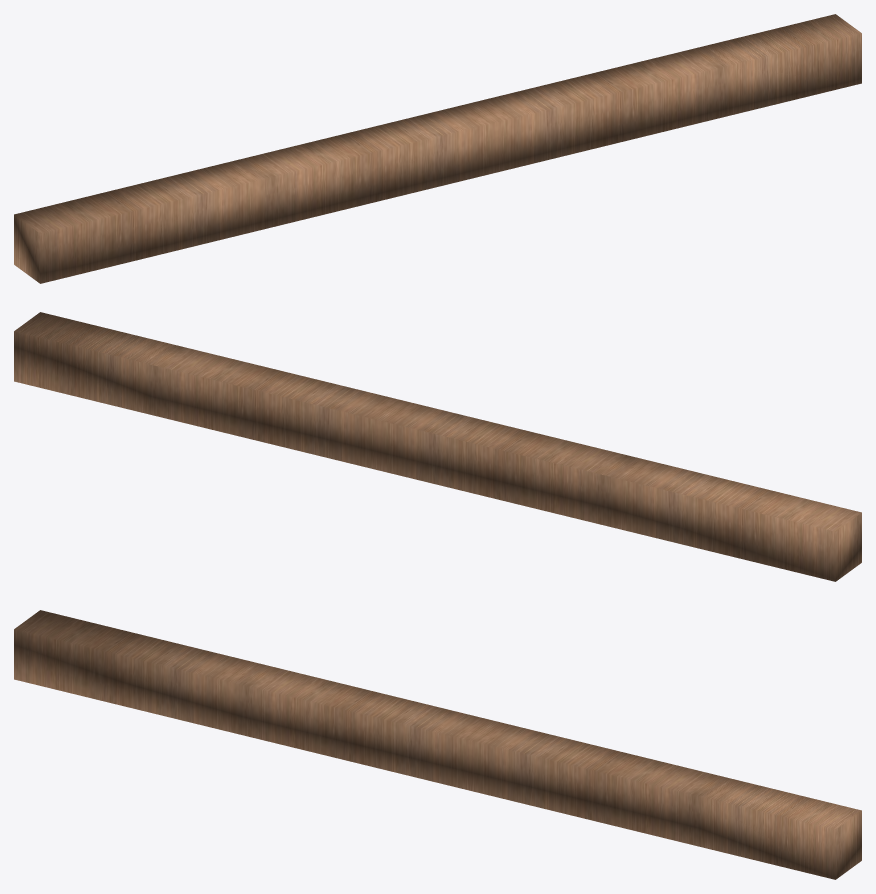
3 renders of one model, top to bottom at view 1: azimuth 30°, elevation 25°; view 2: azimuth 150°, elevation 25°; view 3: azimuth 330°, elevation 25°, orthographic.
Visible parts, largest first — view 1: Cube147_Wood_02001_0; view 2: Cube147_Wood_02001_0; view 3: Cube147_Wood_02001_0.
Boxes of the visible parts, x1=… form: Cube147_Wood_02001_0: x1=14, y1=14, x2=861, y2=283; Cube147_Wood_02001_0: x1=14, y1=312, x2=861, y2=581; Cube147_Wood_02001_0: x1=14, y1=610, x2=861, y2=879.
Bounding box in the file's own units: 3.6 × 0.21 × 0.2.
1 material, 1 textured.
